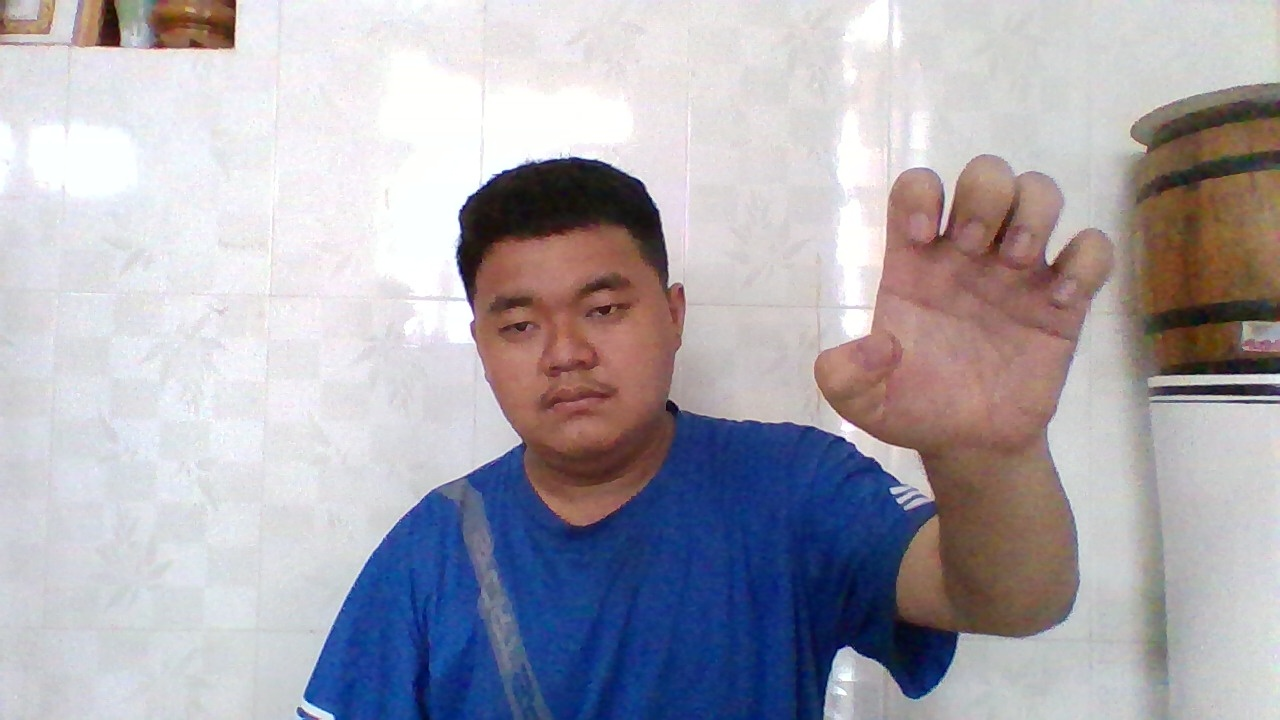E: (815, 155, 1115, 458)
